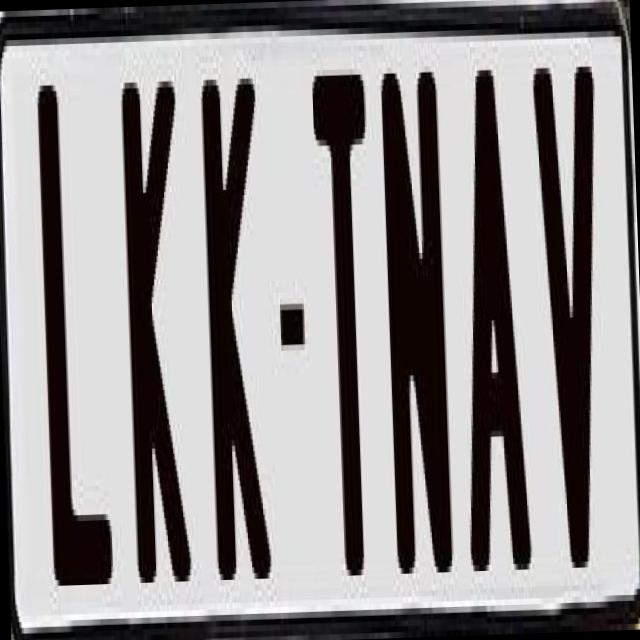A: (453, 51, 542, 577)
K: (118, 68, 195, 600), (199, 60, 277, 563)
L: (32, 78, 116, 592)
N: (376, 60, 451, 568)
T: (306, 57, 376, 570)
V: (530, 54, 617, 580)
